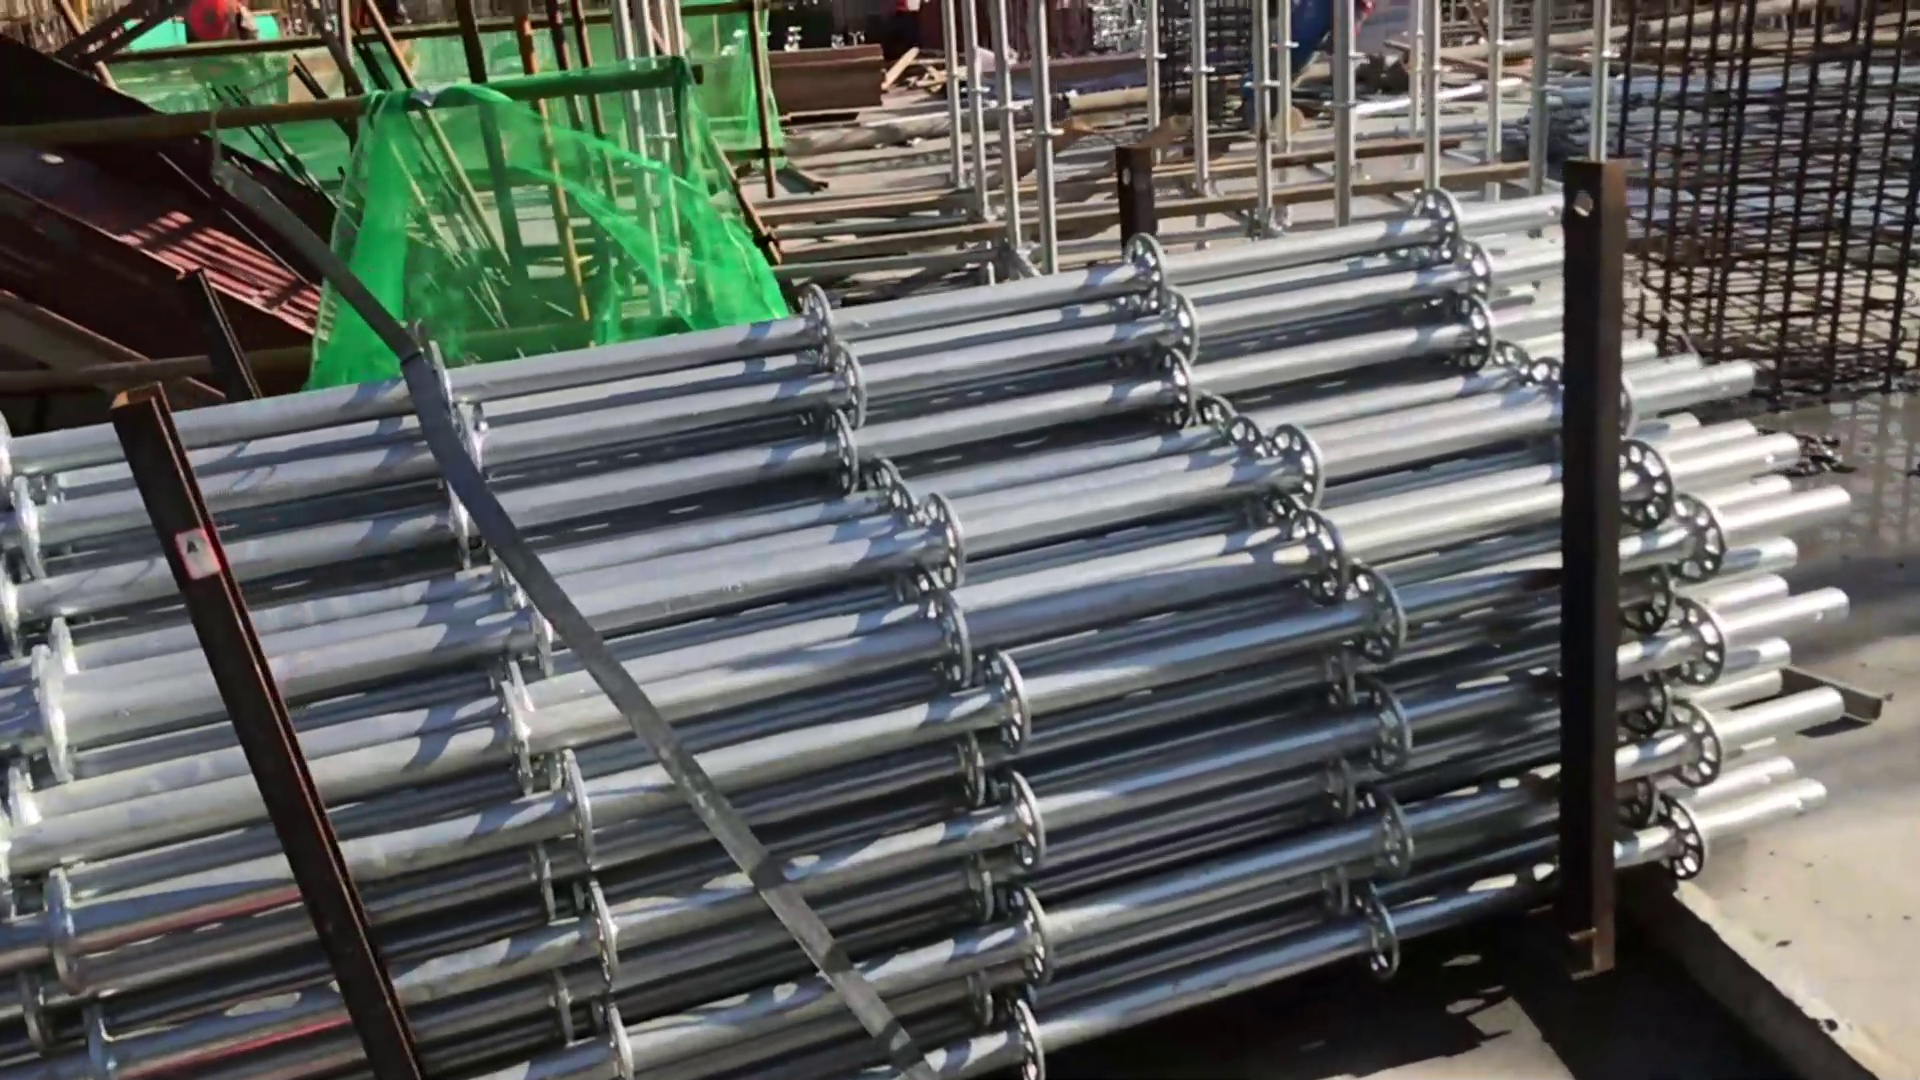scaffold: (1, 187, 1855, 1080)
